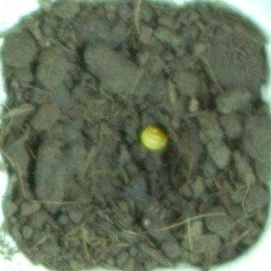chilli seed: (139, 123, 171, 152)
